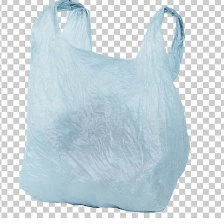plastic_bag: (16, 0, 195, 213)
